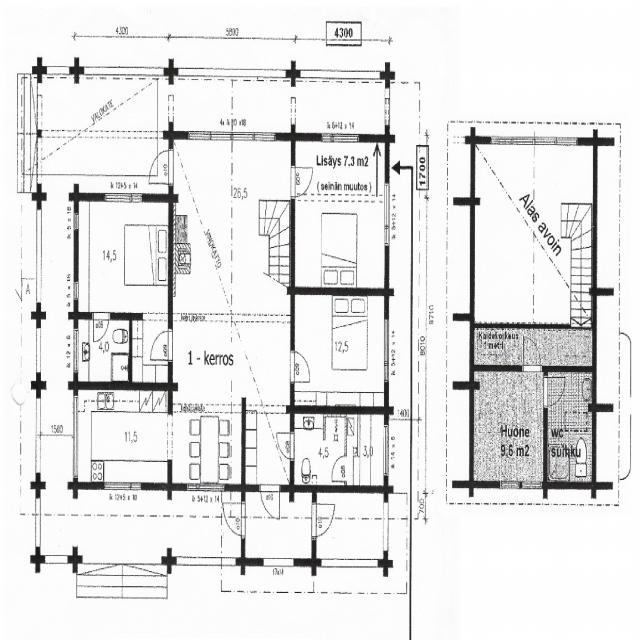door: (260, 484, 280, 525), (149, 151, 173, 184), (312, 505, 336, 537), (222, 504, 246, 536), (291, 352, 314, 382), (291, 167, 313, 197), (151, 331, 173, 360), (544, 378, 565, 407), (524, 337, 541, 372), (93, 312, 109, 347), (276, 434, 296, 459), (330, 457, 347, 481)
